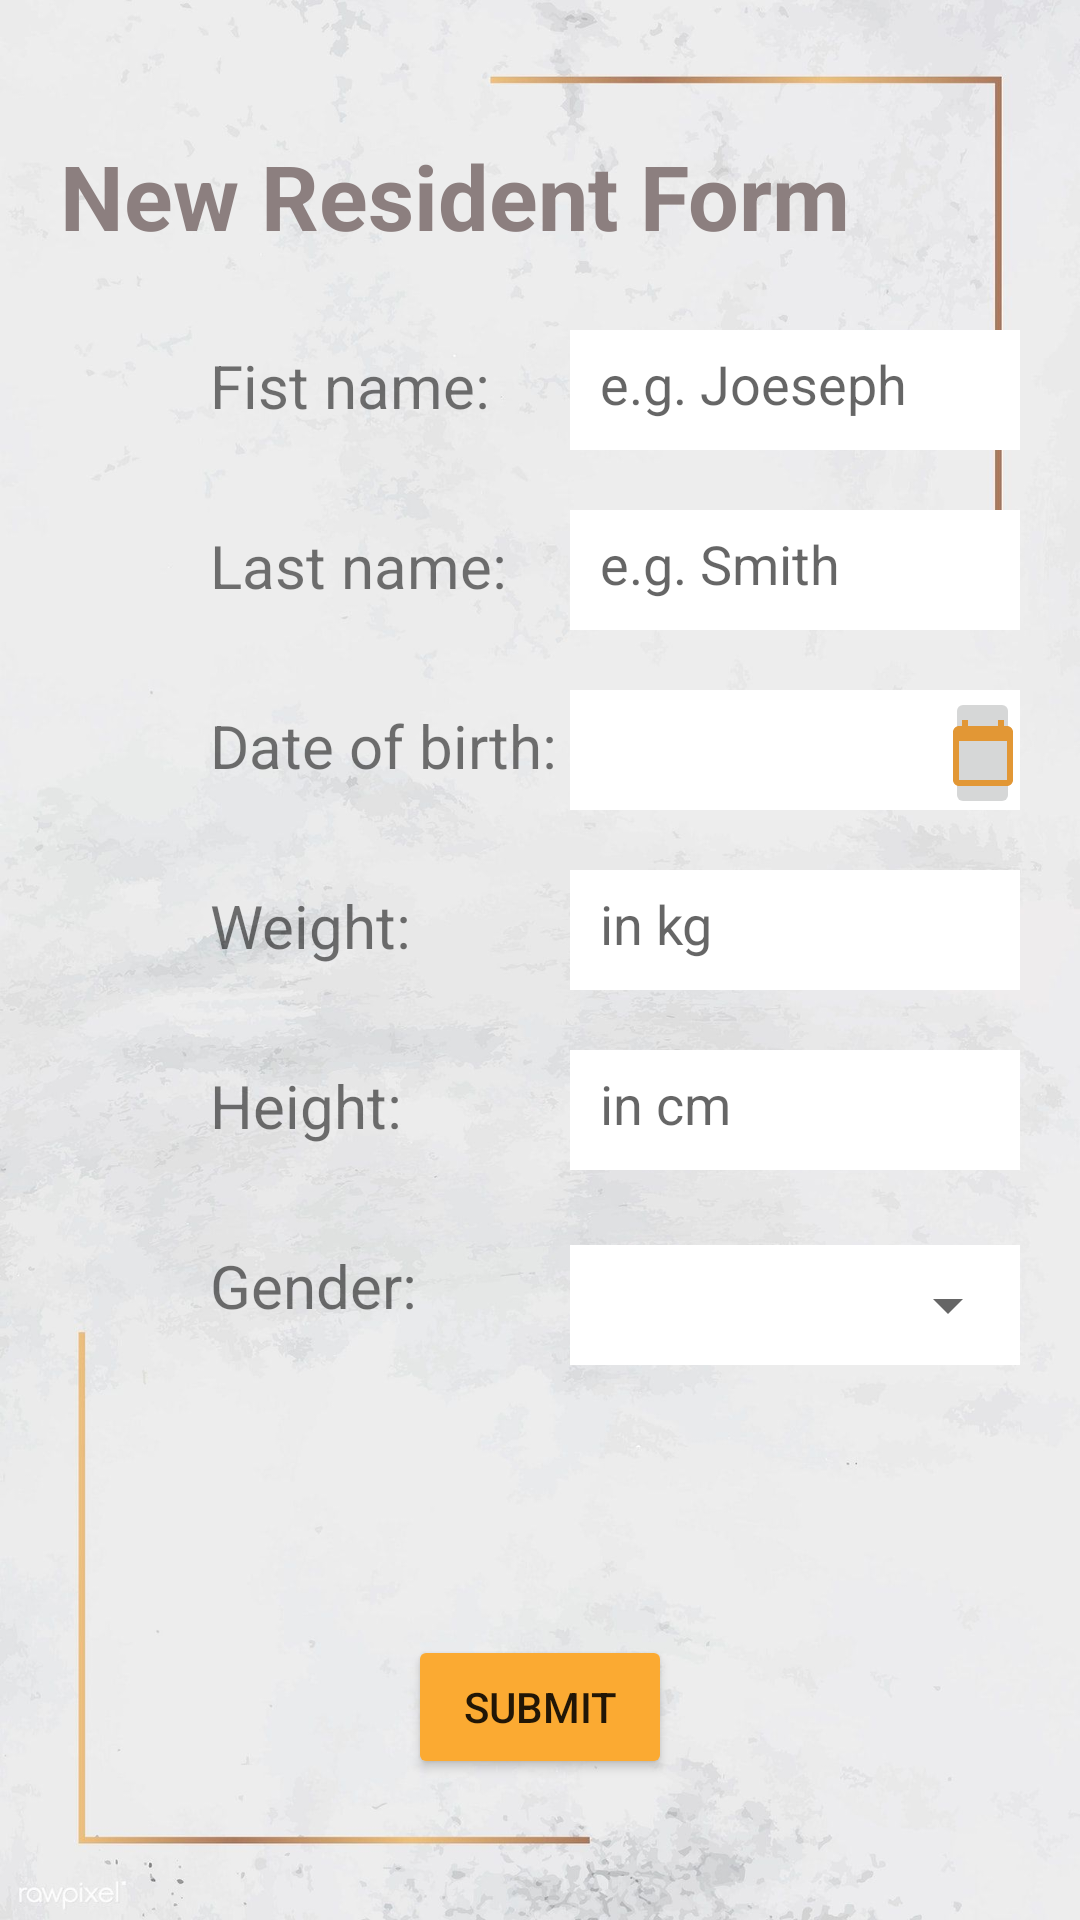

Icons on this 1080 x 1920 Android screen, each with its box as (x1, y1, x2, y2):
calendaricon: (953, 705, 1013, 801)
